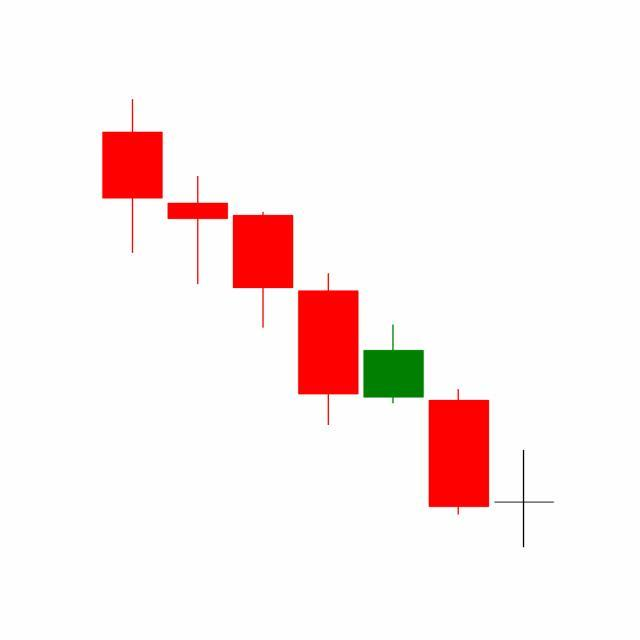Hikkake Pattern: (165, 173, 492, 519)
